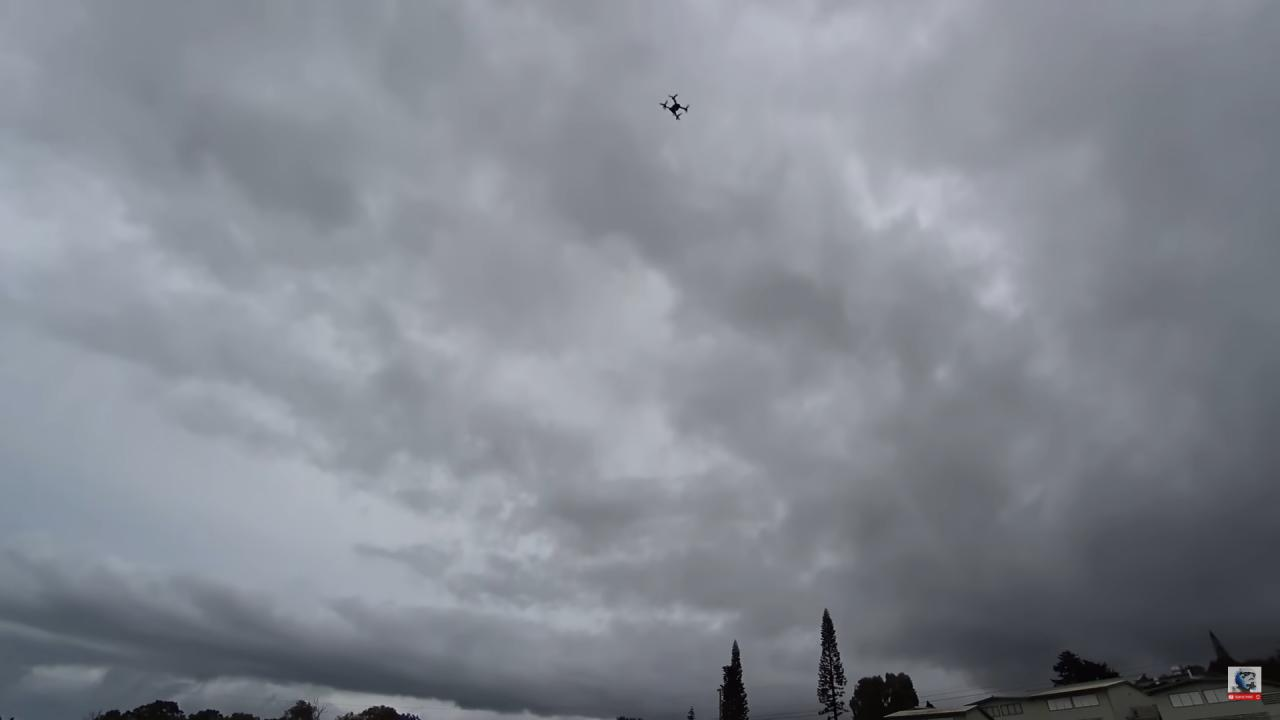Drone: (647, 82, 702, 132)
